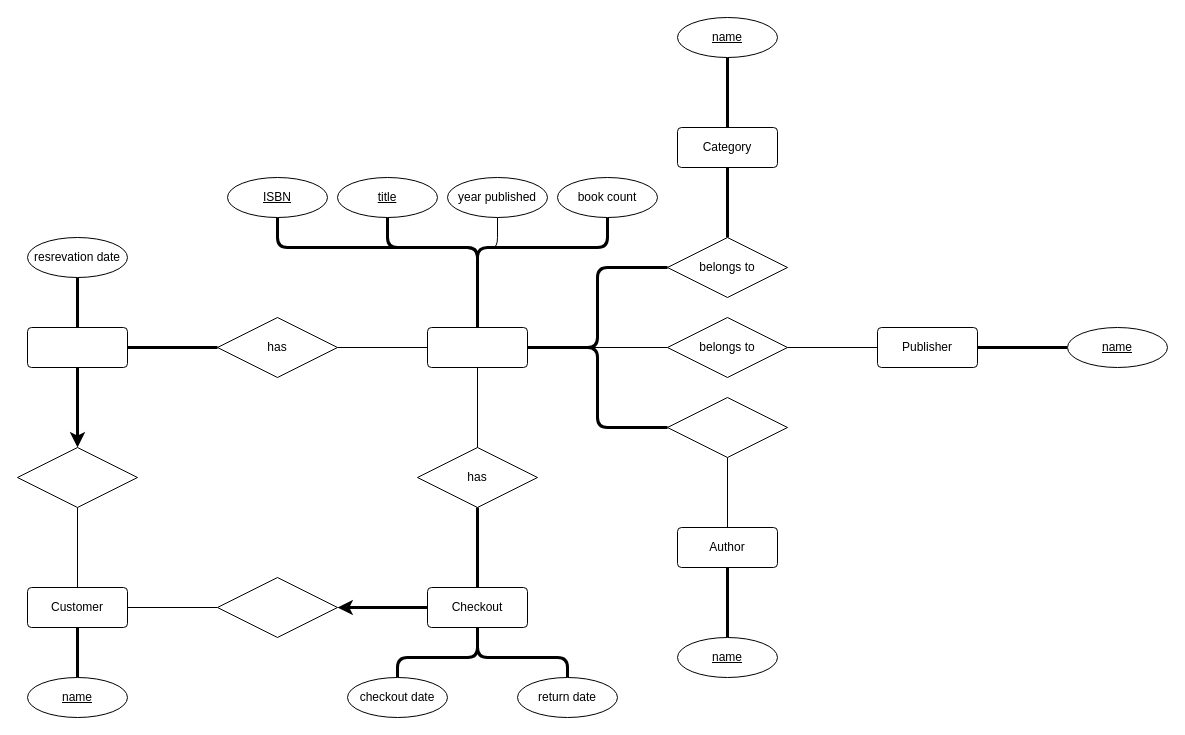
Some shapes in this 1185 by 735 pixel diagram are drawn without their labels. Each missing label, with the centre of its shape:
Book: point (477, 347)
is initiated by: point (277, 607)
is placed by: point (77, 477)
Reservation: point (77, 347)
written by: point (727, 427)
